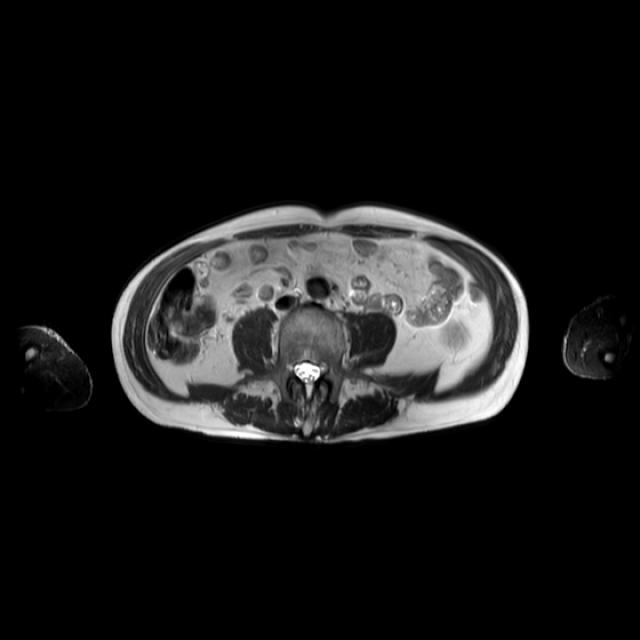sol: (442, 320, 470, 350)
